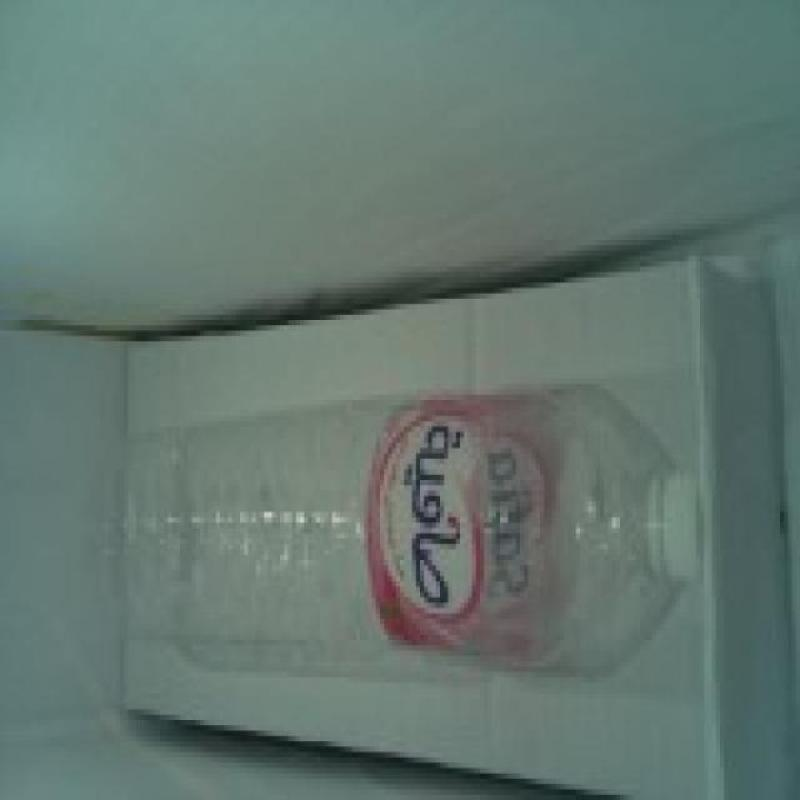botella: (120, 385, 708, 684)
